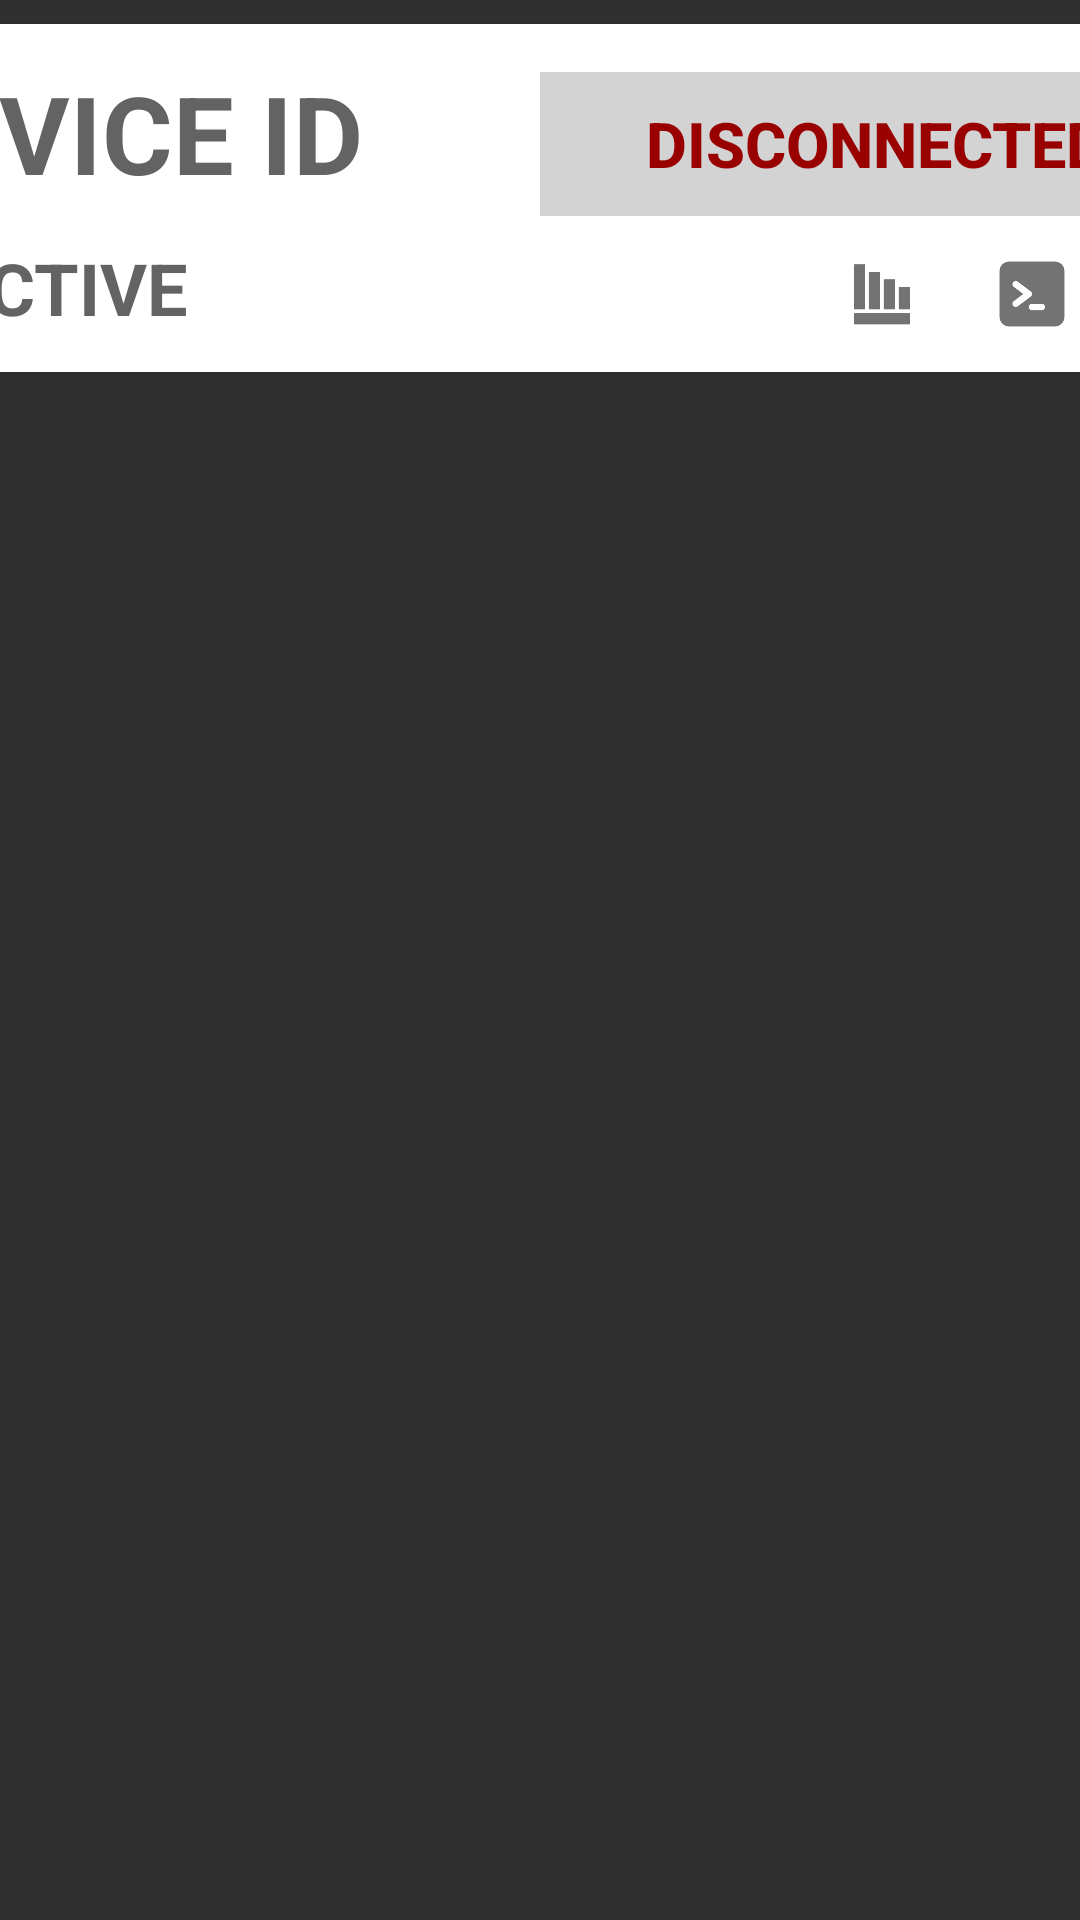

Screen size 1080w x 1920h. Icon name, then its box in pixels as (x1, y1, x2, y2):
plot: (854, 264, 910, 325)
